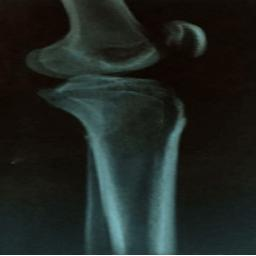cancer: (58, 92, 183, 255)
